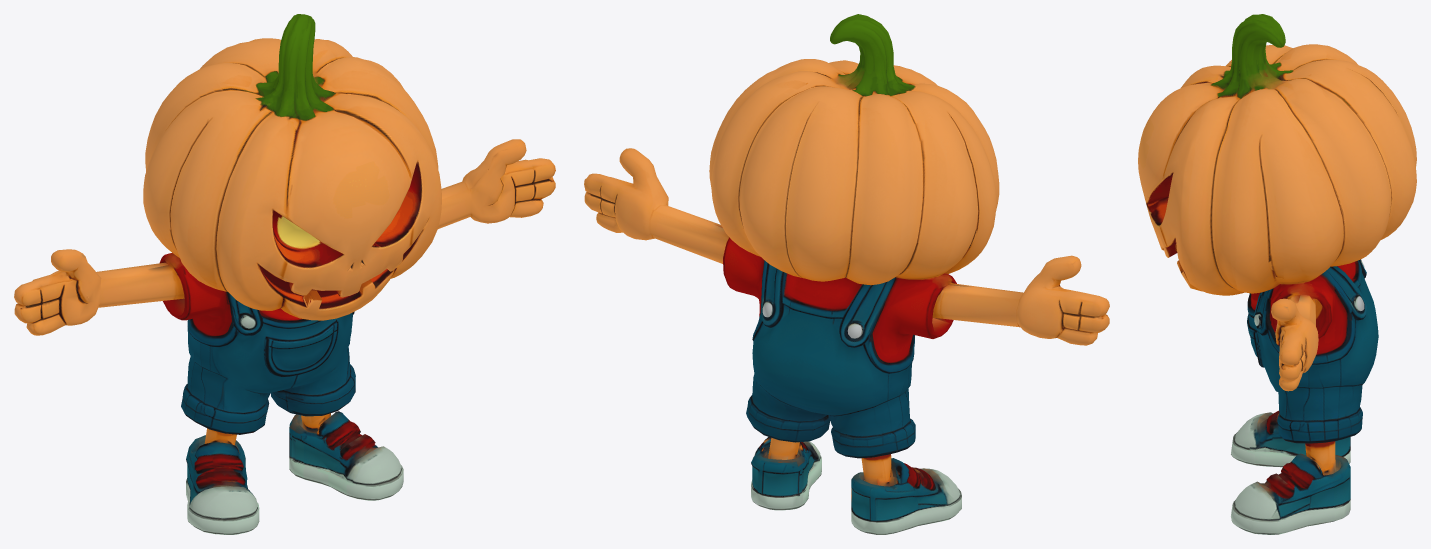
Rendered from Elephant.glb.
3 views of the same model, side by side, from view 1: azimuth 30°, elevation 25°; view 2: azimuth 150°, elevation 25°; view 3: azimuth 270°, elevation 25° (orthographic). The views are drawn at different scales.
Visible parts, largest first — view 1: Pumpkin Character_0; view 2: Pumpkin Character_0; view 3: Pumpkin Character_0.
Part boxes in pixels (left/top/right/bottom): Pumpkin Character_0: left=14, top=14, right=555, bottom=534; Pumpkin Character_0: left=584, top=14, right=1109, bottom=534; Pumpkin Character_0: left=1138, top=14, right=1416, bottom=534.
Bounding box in the file's own units: 3.8 × 3.29 × 1.76.
1 material, 1 textured.
